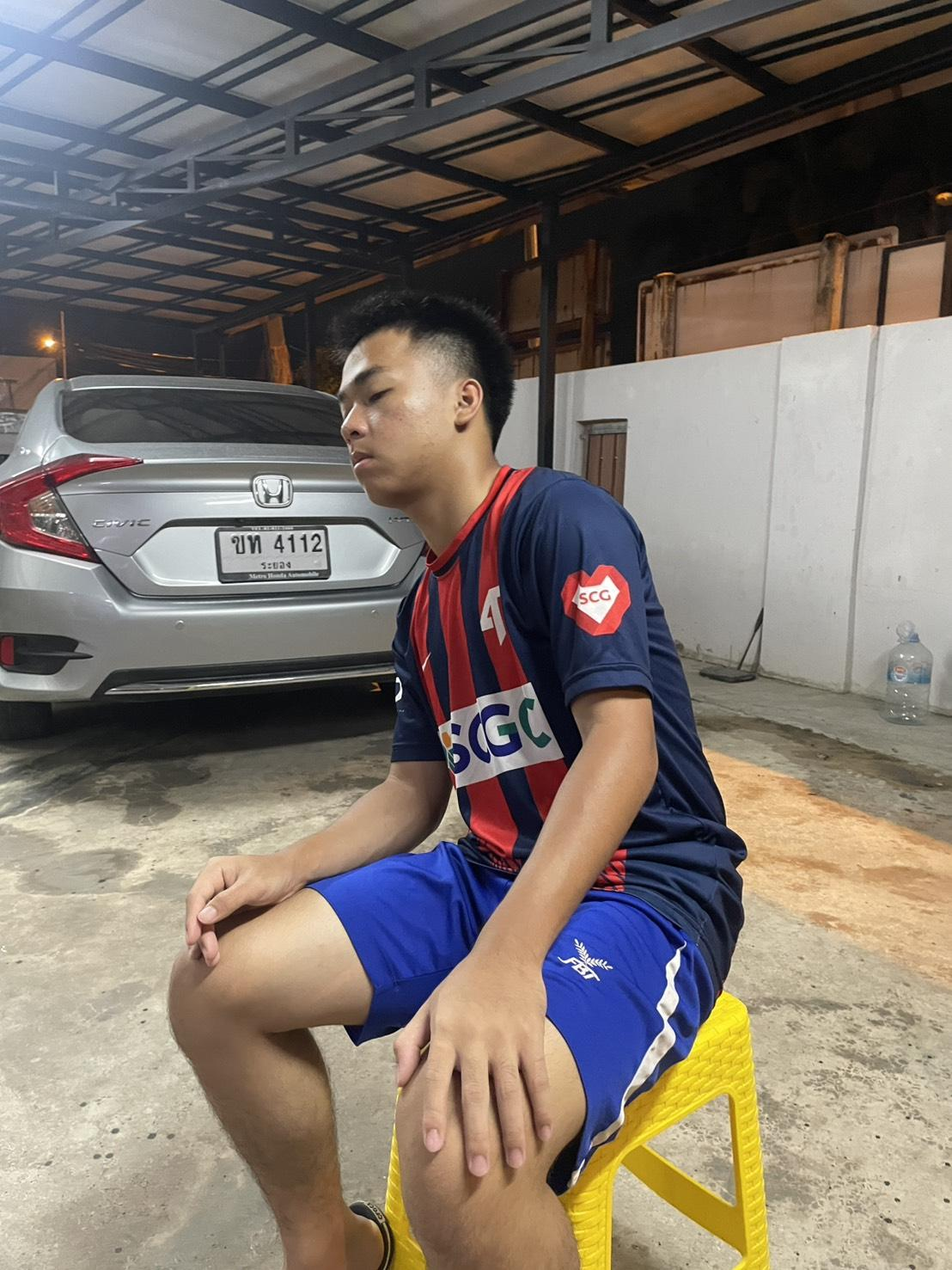BadPosture: (276, 292, 746, 981)
